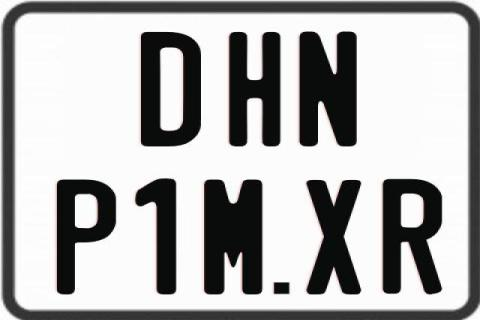0: (133, 176, 177, 294)
D: (138, 30, 201, 146)
H: (228, 31, 281, 148)
M: (201, 179, 260, 296)
N: (296, 31, 355, 149)
P: (55, 178, 116, 294)
R: (381, 177, 440, 293)
X: (306, 179, 365, 295)
